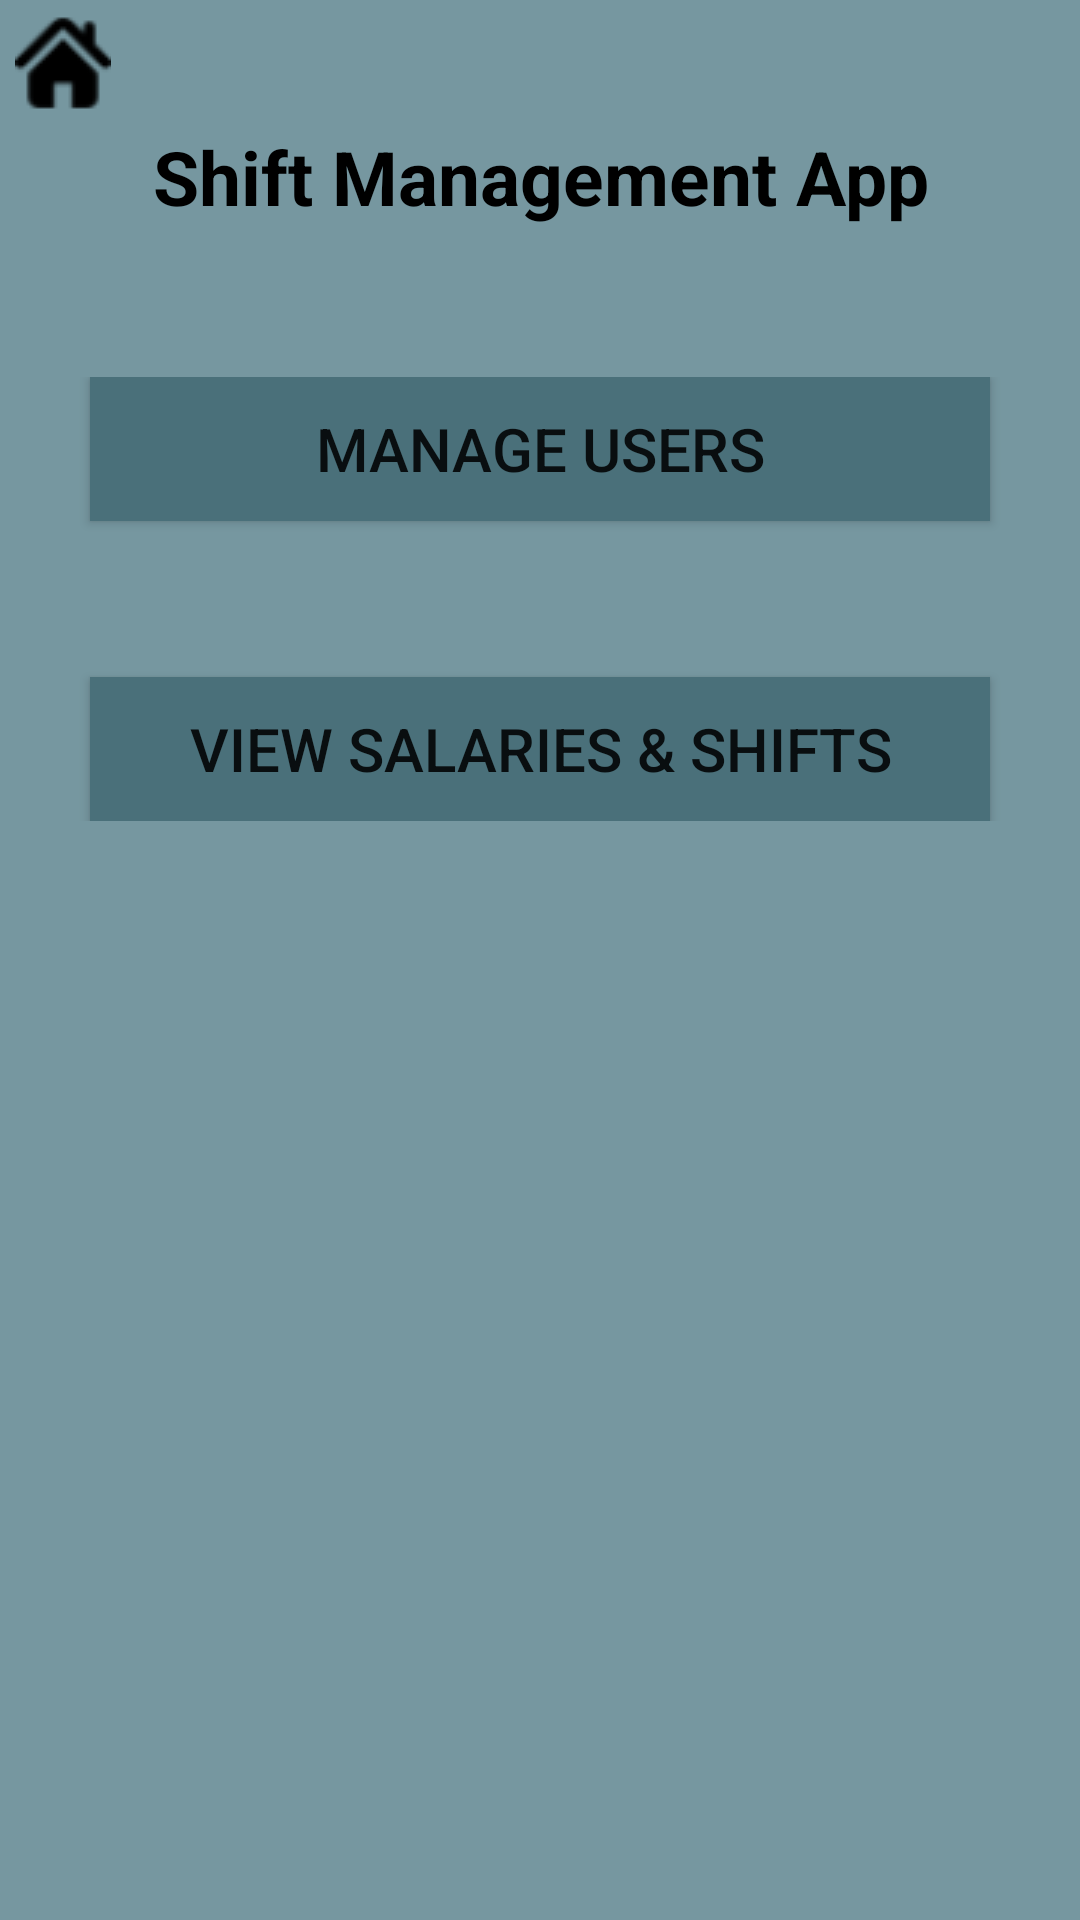

Point at icon controls on the screen. Image size 1080×1920, points as (x,y).
home: (63,63)
